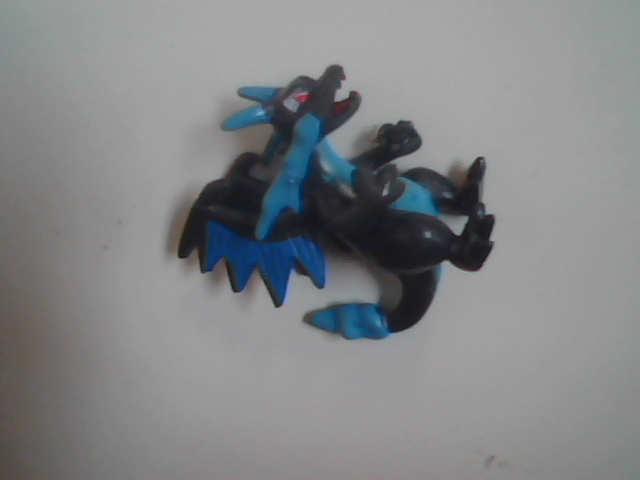charizard: (148, 25, 521, 393)
